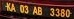character: (10, 3, 16, 12), (49, 7, 55, 16), (65, 8, 71, 17), (32, 6, 38, 14), (6, 2, 11, 11), (19, 4, 24, 13), (37, 6, 42, 15), (60, 8, 65, 17), (24, 5, 29, 13), (55, 8, 60, 16)
